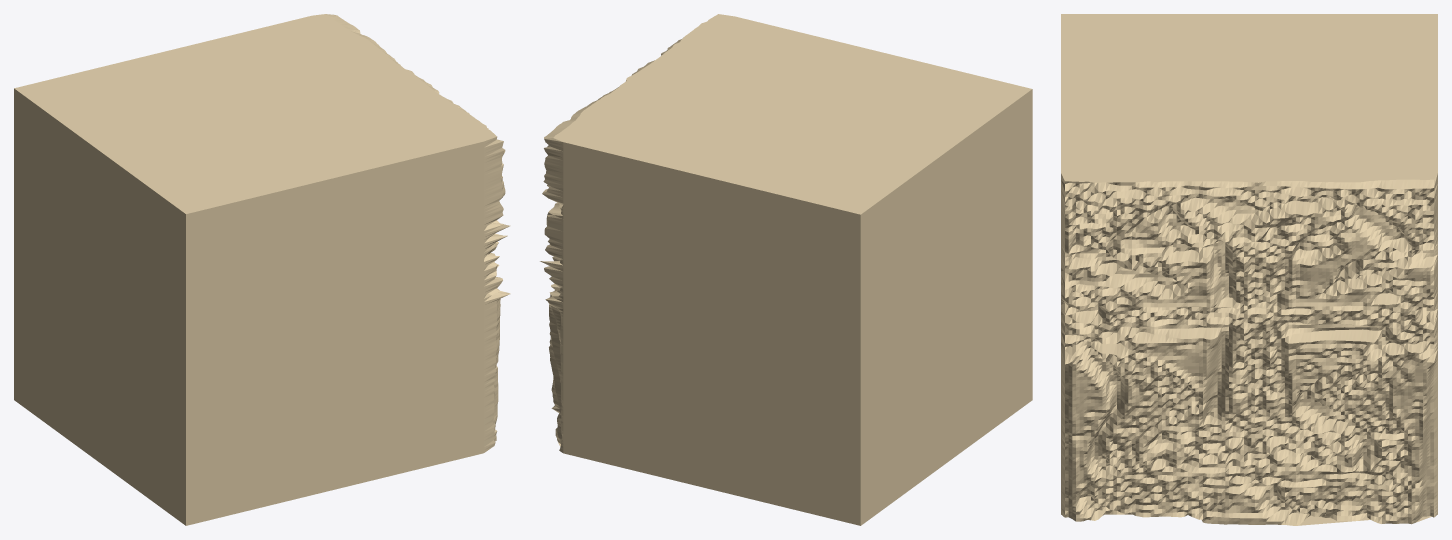
The model's file is cross4.png.obj.
3 views of the same model, side by side, from view 1: azimuth 30°, elevation 25°; view 2: azimuth 150°, elevation 25°; view 3: azimuth 270°, elevation 25° (orthographic). The views are drawn at different scales.
Parts seen in each view (by area): view 1: Cube; view 2: Cube; view 3: Cube.
Part boxes in pixels (x1,y1,x2,y2): Cube: (14, 14, 510, 525); Cube: (540, 14, 1032, 525); Cube: (1061, 14, 1437, 525).
Size of the model in its own units: 1.1 by 1 by 1.
